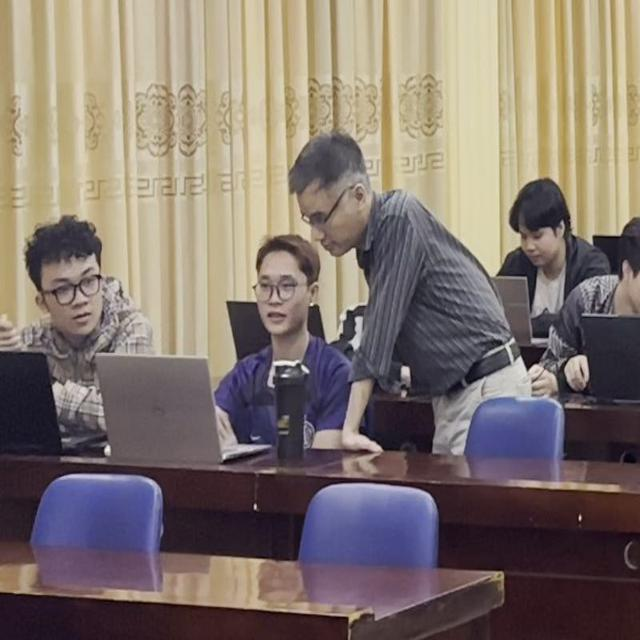Looking away: (278, 129, 390, 268), (27, 221, 111, 340), (502, 168, 573, 271), (614, 213, 640, 323)
Looking forward: (228, 230, 321, 339)
